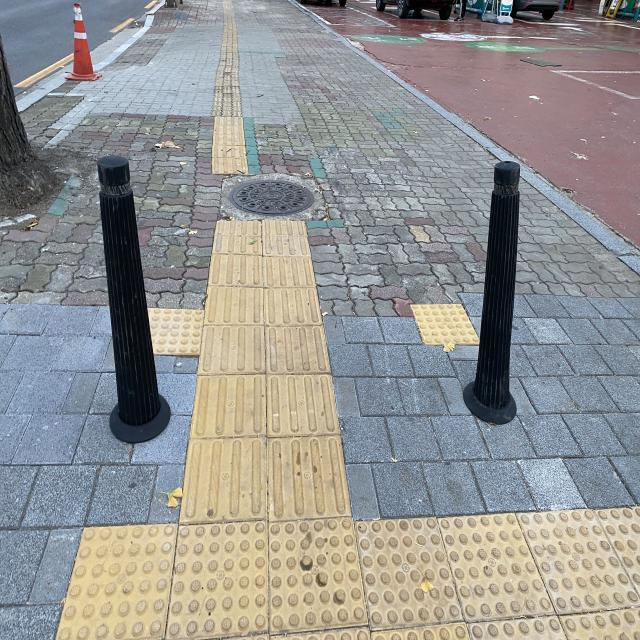pole: (94, 150, 172, 442), (463, 138, 532, 434)
